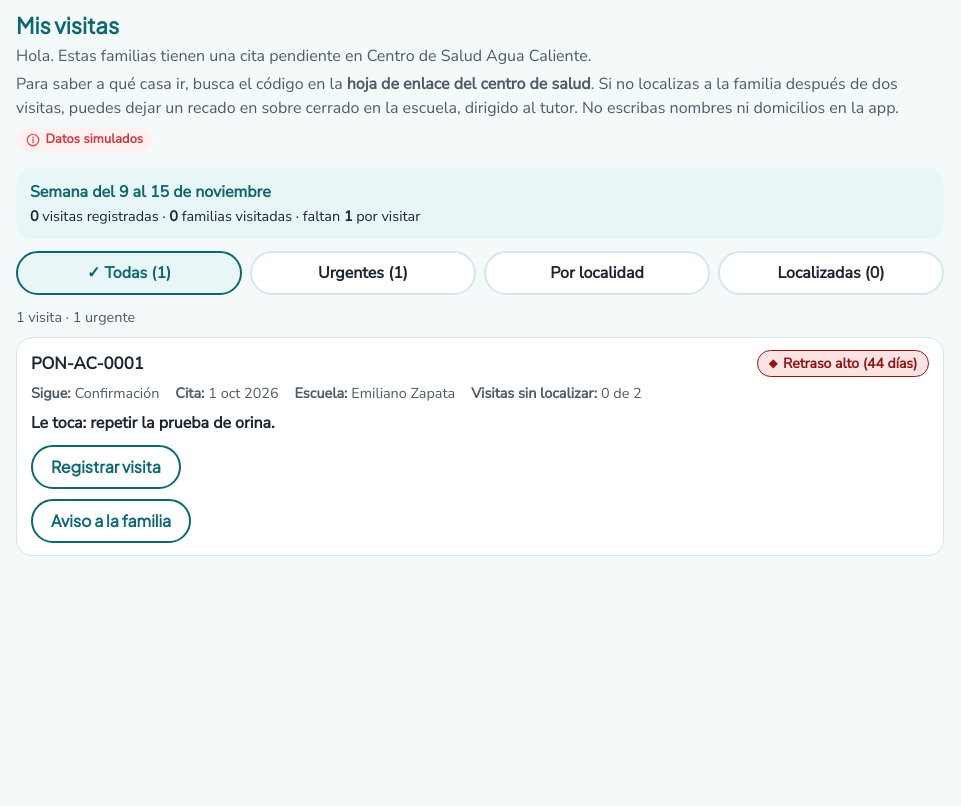
Test: Registrar visita (HU05) › el semáforo no cambia al registrar una visita localizada
Click the button "Registrar visita" at (106, 467), box [31,445,181,489]
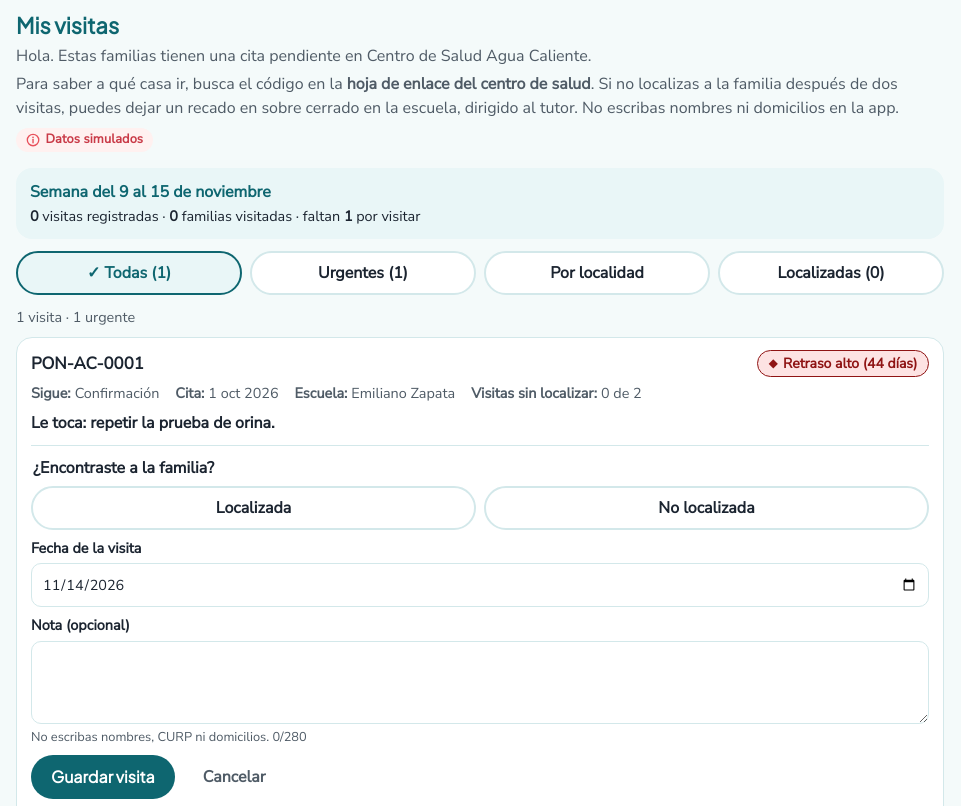
Click the button "Localizada" at (254, 508), box [31,486,476,530]
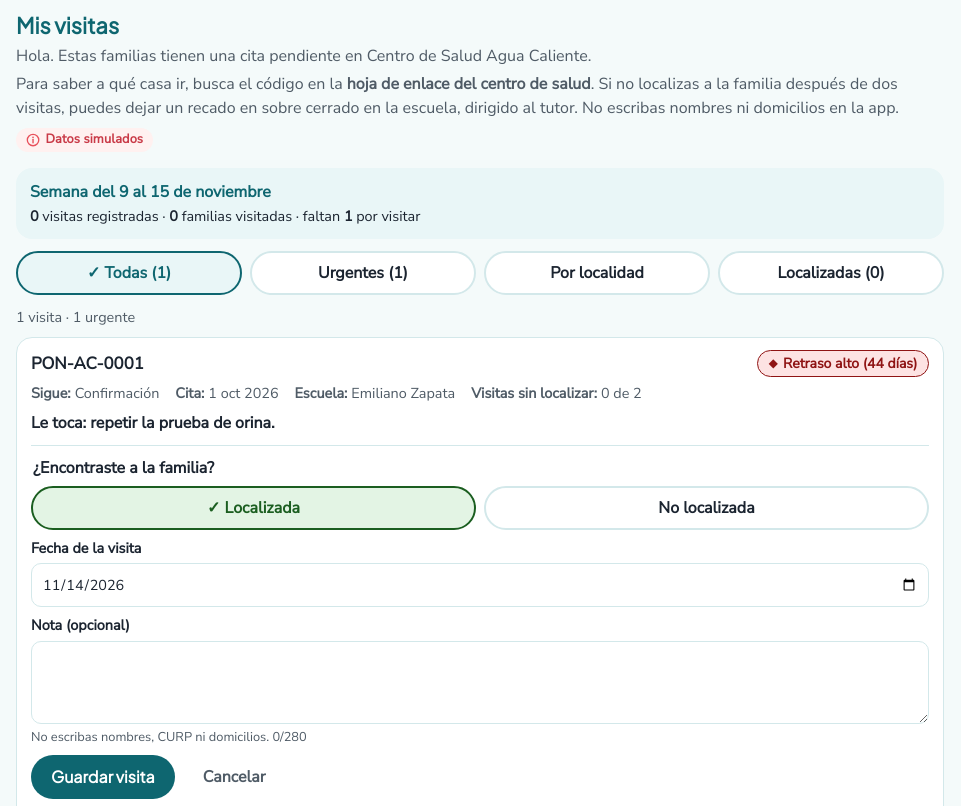
Click the button "Guardar visita" at (103, 777), box [31,755,175,799]
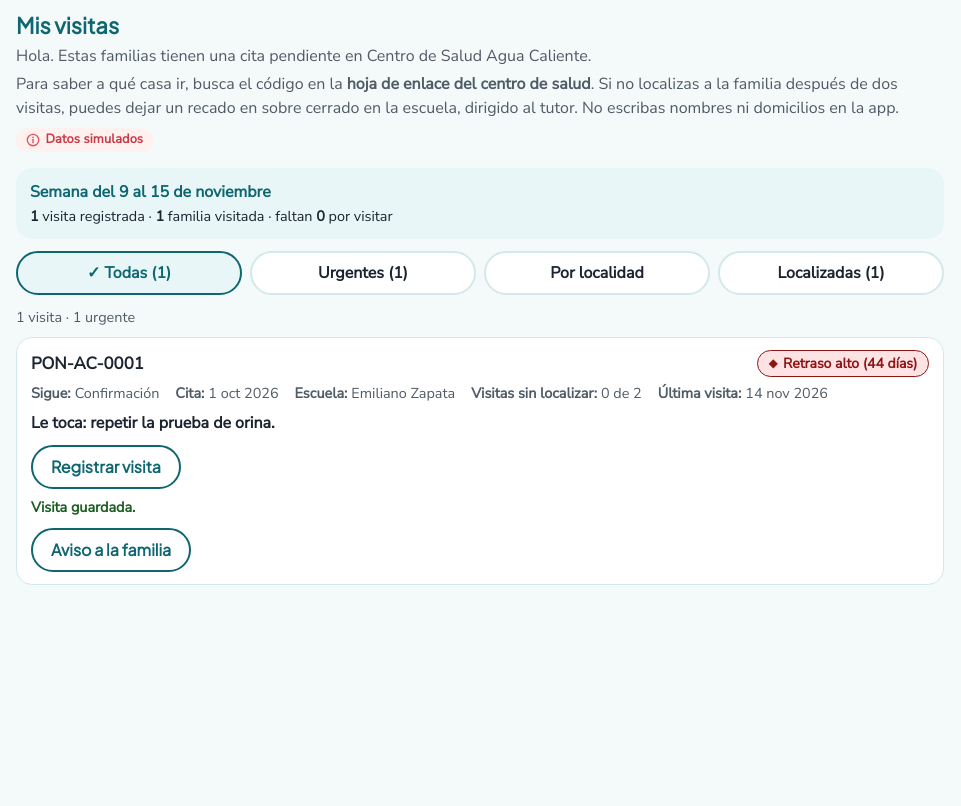
Expected: the text "Retraso alto (44 días)" is shown, [783,354,918,373]
Result: the message "Visita guardada." is shown at [31,497,135,517]
